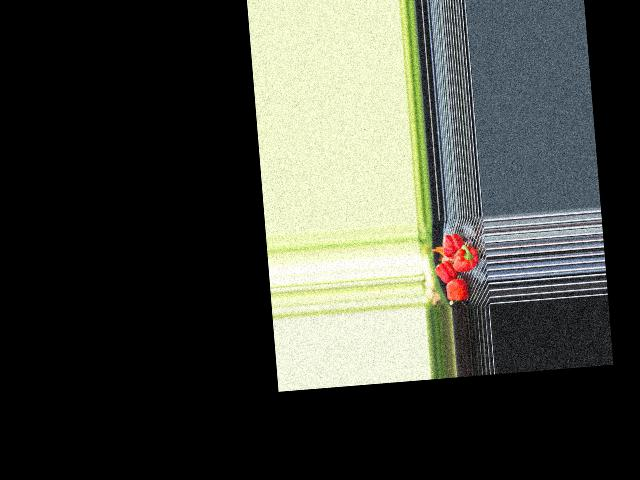bell_pepper: (440, 232, 464, 259)
